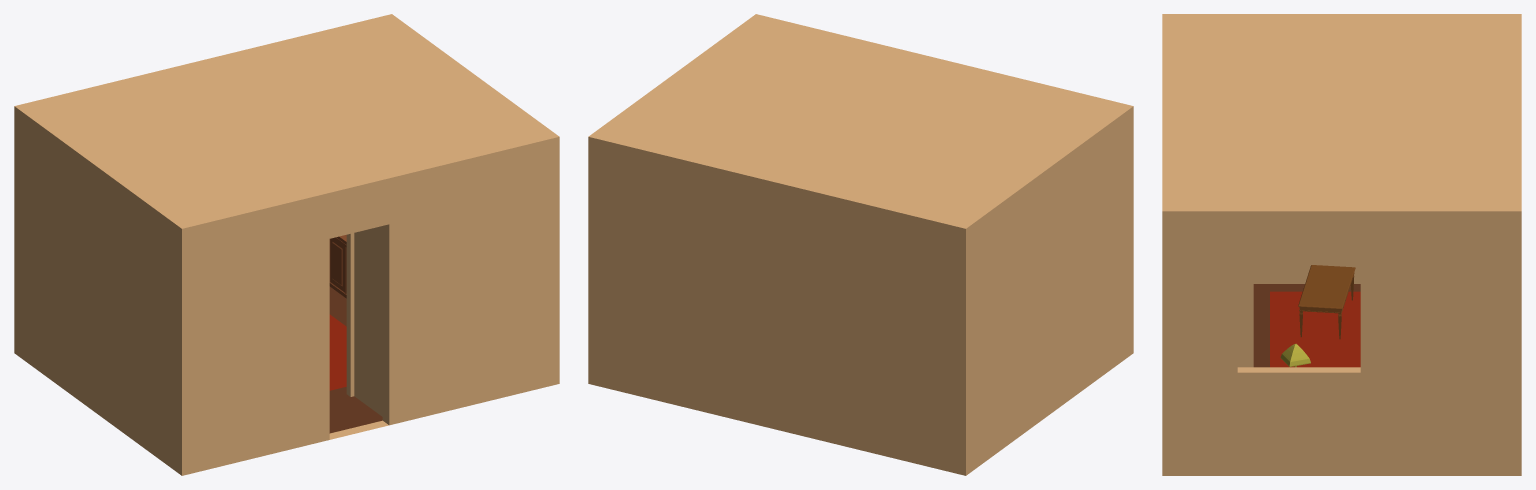
Rendered from S_salon.glb.
3 renders of one model, left to right at view 1: azimuth 30°, elevation 25°; view 2: azimuth 150°, elevation 25°; view 3: azimuth 270°, elevation 25°, orthographic. The views are drawn at different scales.
Visible parts, largest first — view 1: murAvecFenetre.001, plafontch, Plane.079, Plane.092, Plane.080, Plane.087, S_Biblio; view 2: murAvecFenetre.001, plafontch; view 3: murAvecFenetre.001, plafontch, Plane.087, Plane.079, S_TableBasse_low, Plane.092, S_LowLamp.
Boxes of the visible parts, x1,y1,x2,y2 form: murAvecFenetre.001: [14, 14, 559, 475]; plafontch: [34, 21, 542, 221]; Plane.079: [350, 144, 390, 416]; Plane.092: [329, 286, 382, 433]; Plane.080: [283, 146, 354, 396]; Plane.087: [329, 314, 346, 390]; S_Biblio: [329, 235, 346, 298]; murAvecFenetre.001: [588, 14, 1133, 475]; plafontch: [605, 21, 1116, 221]; murAvecFenetre.001: [1162, 14, 1521, 475]; plafontch: [1176, 19, 1507, 205]; Plane.087: [1270, 291, 1360, 367]; Plane.079: [1176, 124, 1253, 367]; S_TableBasse_low: [1298, 265, 1355, 313]; Plane.092: [1253, 284, 1360, 367]; S_LowLamp: [1280, 343, 1310, 367].
Size of the model in its own units: 4.23 by 2.66 by 3.25.
